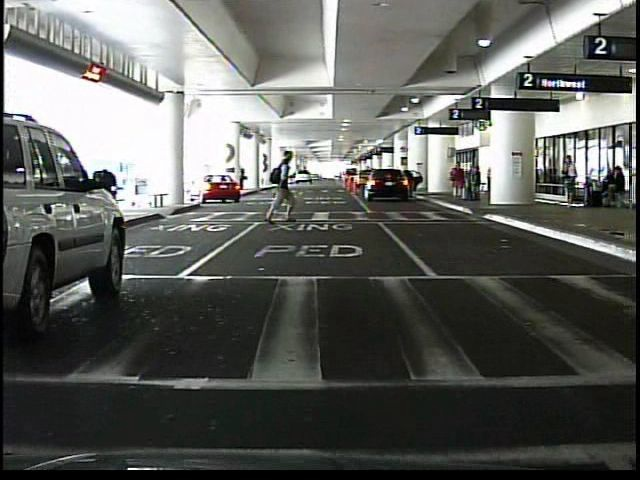person: (258, 147, 297, 224), (448, 159, 468, 200), (564, 158, 578, 206), (469, 165, 483, 201)
